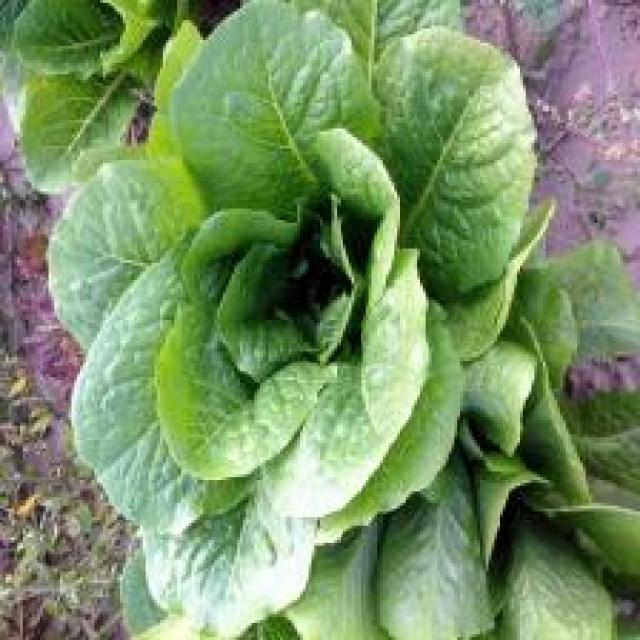Lettuce: (27, 2, 602, 625)
